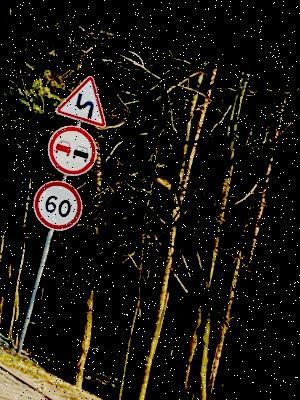Speed Limit -60-: (35, 167, 96, 230)
